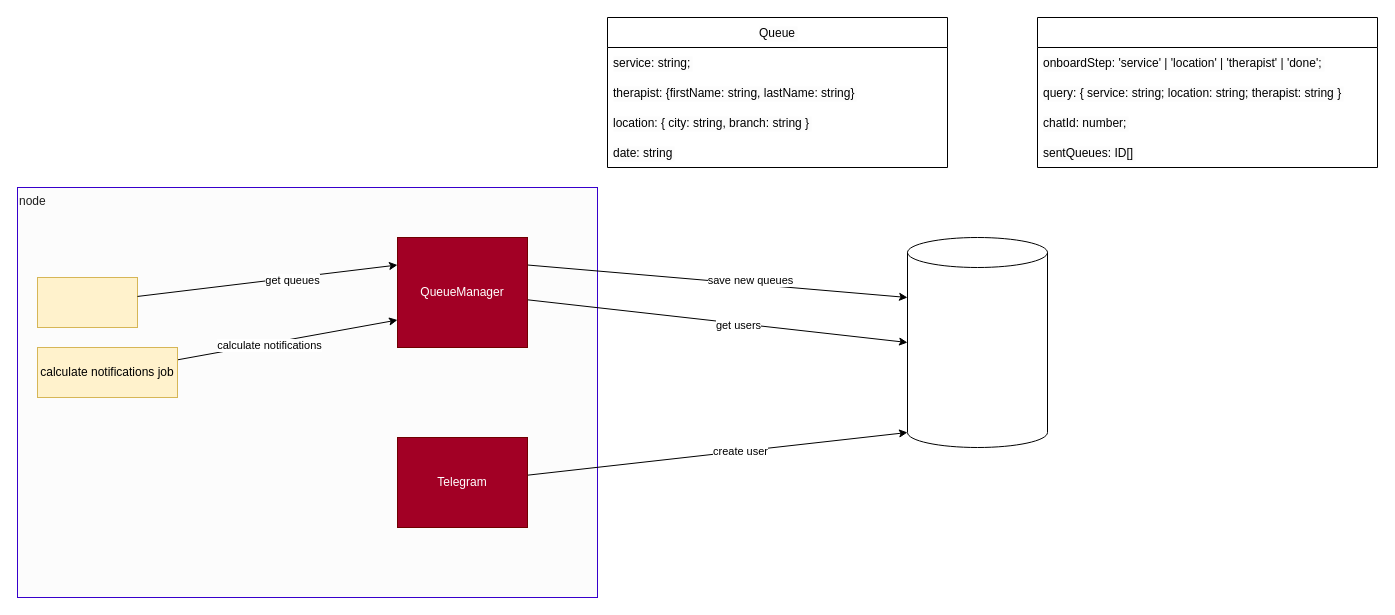
Some shapes in this 1395 by 615 pixel diagram are drawn without their labels. The shapes that lost their labels are listed below. From the top down, each one's box as (x1, y1, x2, y2) in pixels, then its label:
(1036, 16, 1378, 168): User
(36, 276, 138, 328): get queues job
(906, 236, 1048, 448): mongo
